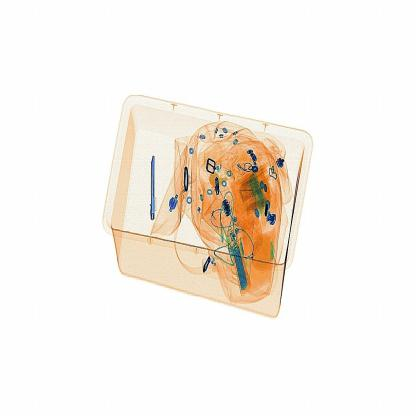pliers: (141, 150, 162, 225)
